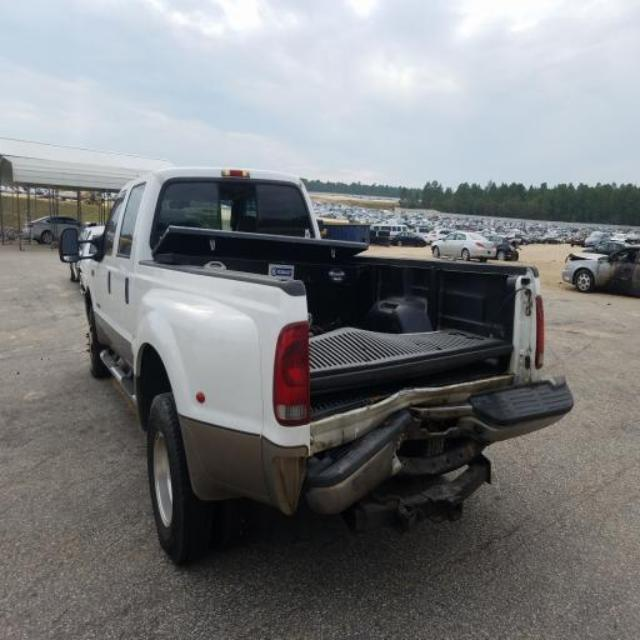dent: (272, 368, 575, 516)
